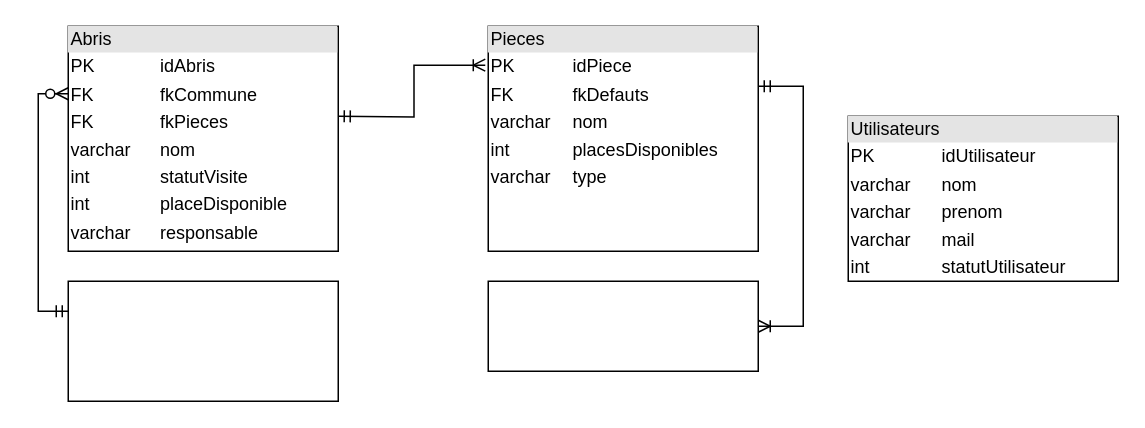
Some shapes in this 1145 by 428 pixel diagram are drawn without their labels. Each missing label, with the centre of its shape:
Communes PK idCommune varchar nom varchar region: the point at 202,340
Defauts PK idDefaut varchar description: the point at 622,325
